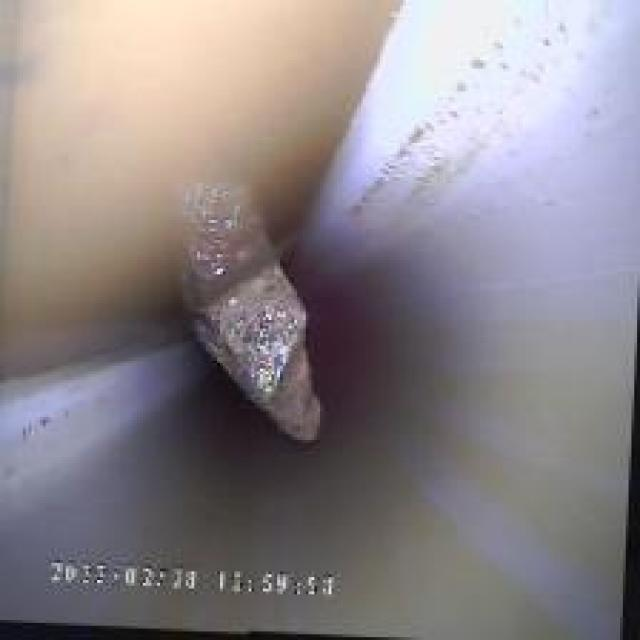stone: (157, 171, 337, 460)
